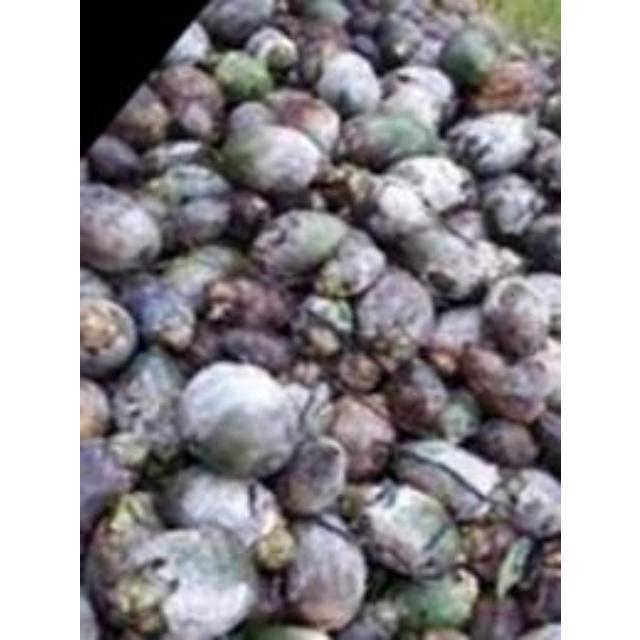damaged: (91, 520, 257, 640), (176, 361, 304, 479), (352, 481, 462, 579), (278, 518, 366, 626), (392, 438, 502, 524), (216, 120, 328, 202), (158, 468, 278, 544), (396, 222, 502, 304), (248, 208, 352, 282), (458, 341, 550, 423), (80, 185, 160, 275), (319, 394, 397, 480), (352, 270, 432, 352), (447, 111, 538, 177), (112, 350, 186, 430), (381, 358, 454, 437), (339, 112, 439, 168), (202, 274, 294, 334), (479, 276, 549, 354), (357, 175, 435, 241), (151, 64, 223, 134), (391, 570, 475, 628), (79, 296, 137, 378), (492, 468, 558, 540), (386, 156, 469, 212), (311, 50, 379, 114), (290, 294, 358, 358), (481, 175, 544, 241), (460, 520, 520, 582), (110, 90, 170, 146), (210, 50, 274, 102), (382, 64, 452, 110), (472, 416, 536, 466), (170, 197, 232, 247), (242, 26, 298, 68)
